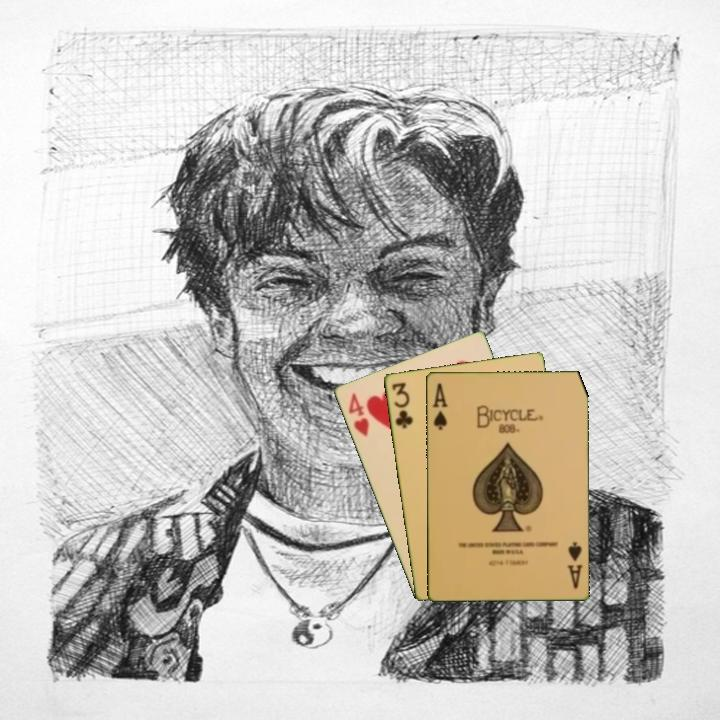3c: (388, 379, 416, 431)
4h: (344, 389, 372, 439)
As: (563, 538, 585, 591), (429, 379, 450, 432)
